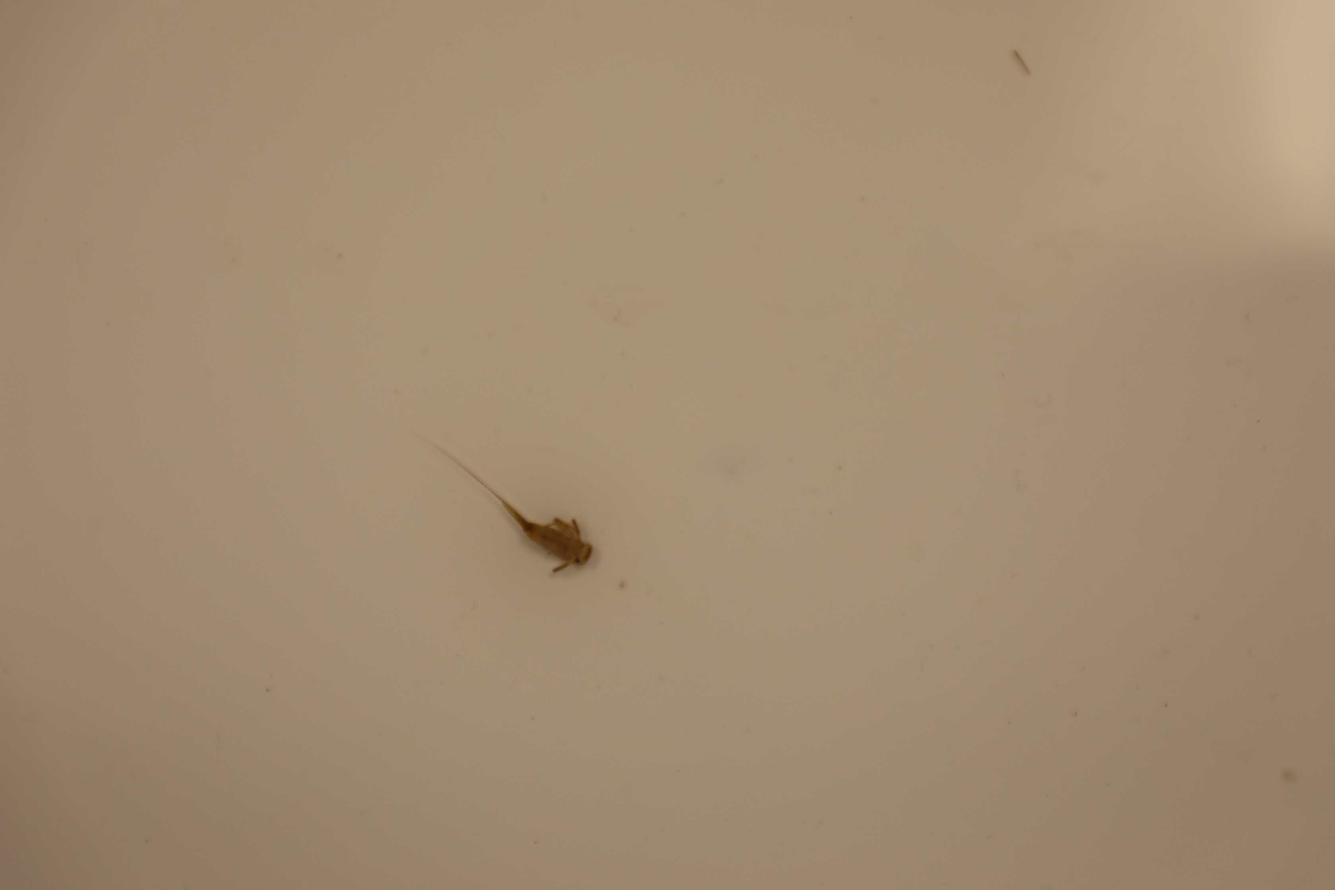Mayfly: (416, 434, 598, 573)
